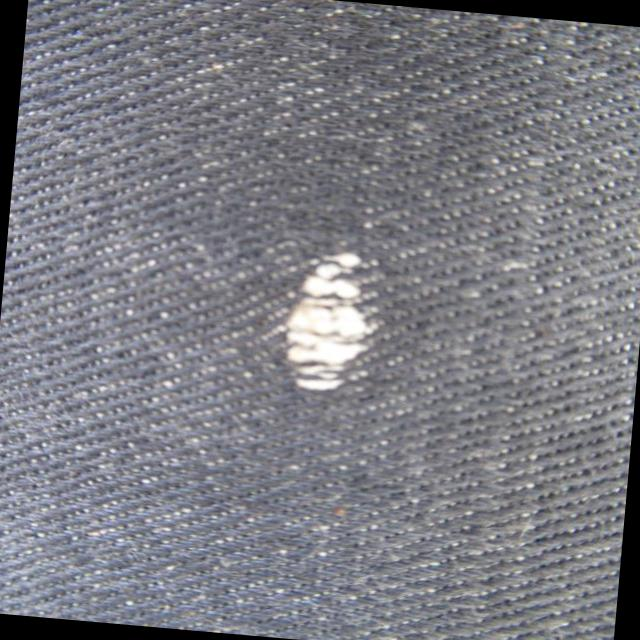hole: (275, 240, 380, 398)
